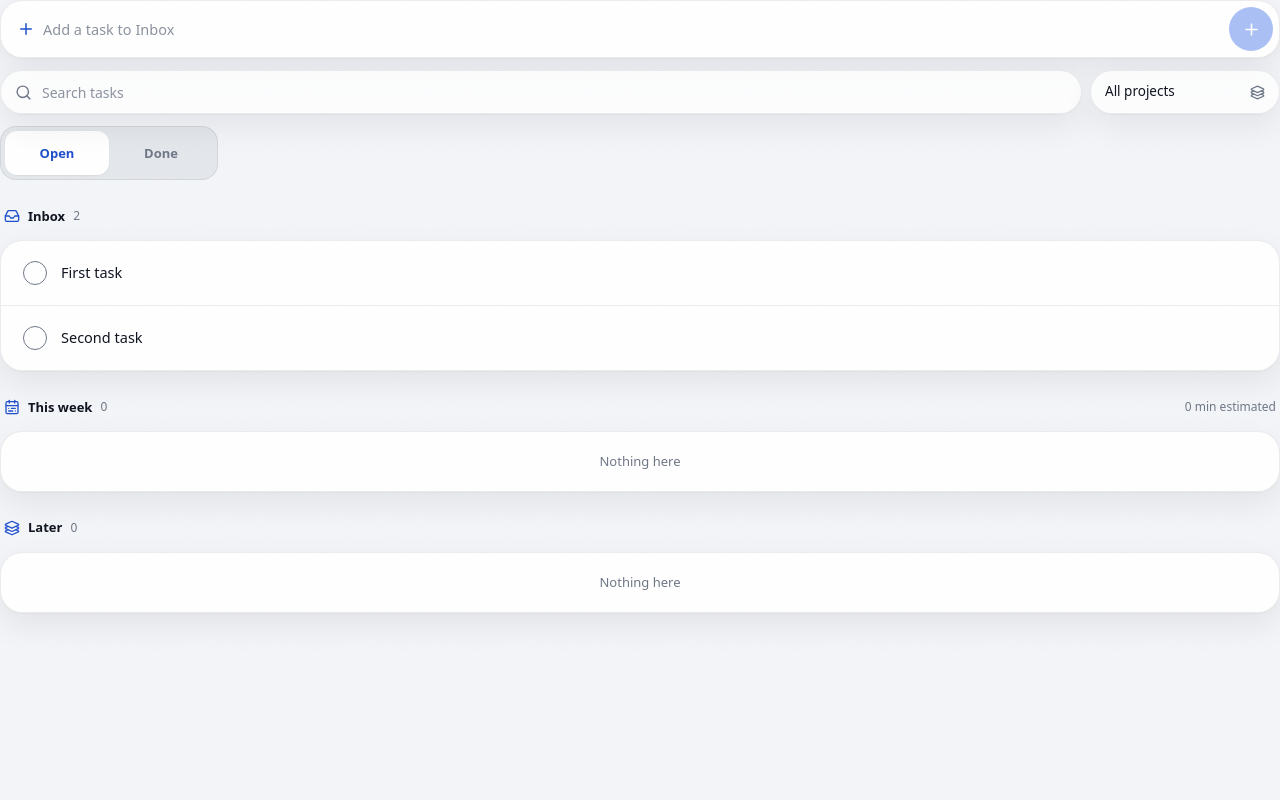
Scenario: TasksPage V2 › restores the right row when concurrent completions settle out of order
Click the button named "Complete: First task" at (35, 273), box x1=13 y1=241 x2=57 y2=305
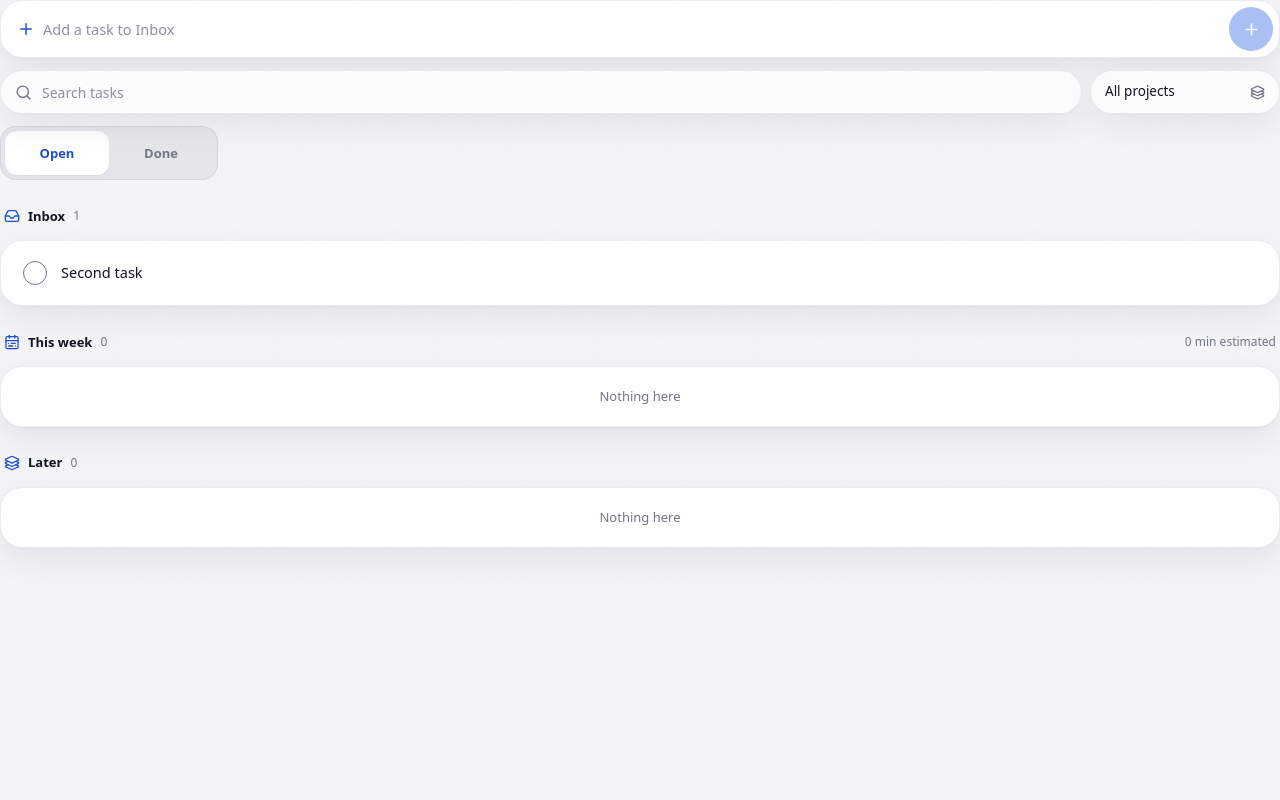
Click the button named "Complete: Second task" at (35, 273), box x1=13 y1=241 x2=57 y2=305
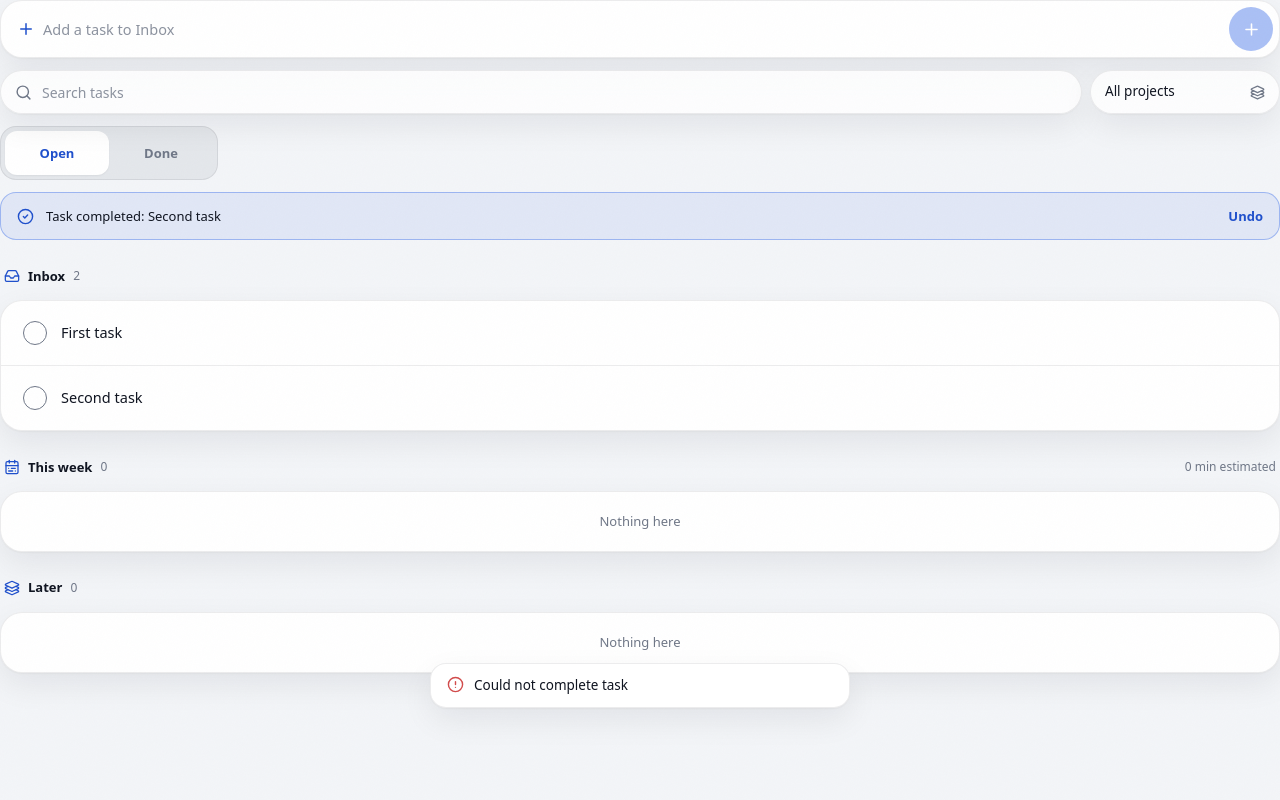
Expected: the button named "Complete: First task" is shown, x1=13 y1=301 x2=57 y2=365
Expected: the text "Could not complete task" is shown, x1=474 y1=676 x2=628 y2=695
